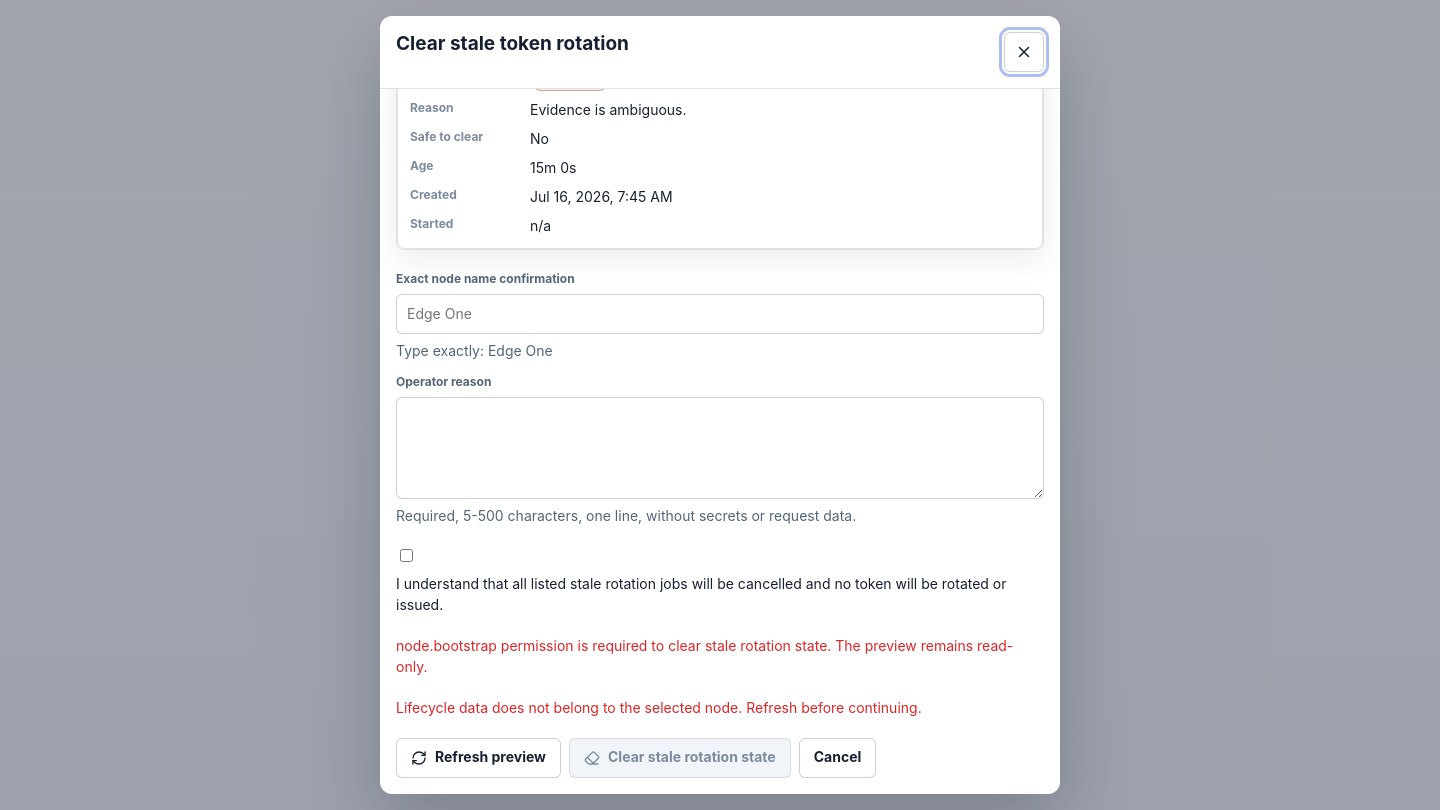
Scenario: NodeStaleRotationClearDialog › blocks mutation without permission/current ownership and refreshes only through the supplied action
(page scrolled)
Expected: the text "node.bootstrap permission is required" is shown, 396,636 -> 1013,674
Expected: the text "Lifecycle data does not belong to the selected node" is shown, 396,698 -> 922,716
What coordinates should you click on to do the following:
click the button "Refresh preview"
I would click on:
 (478, 758)
Its box is 396,738 -> 561,778.
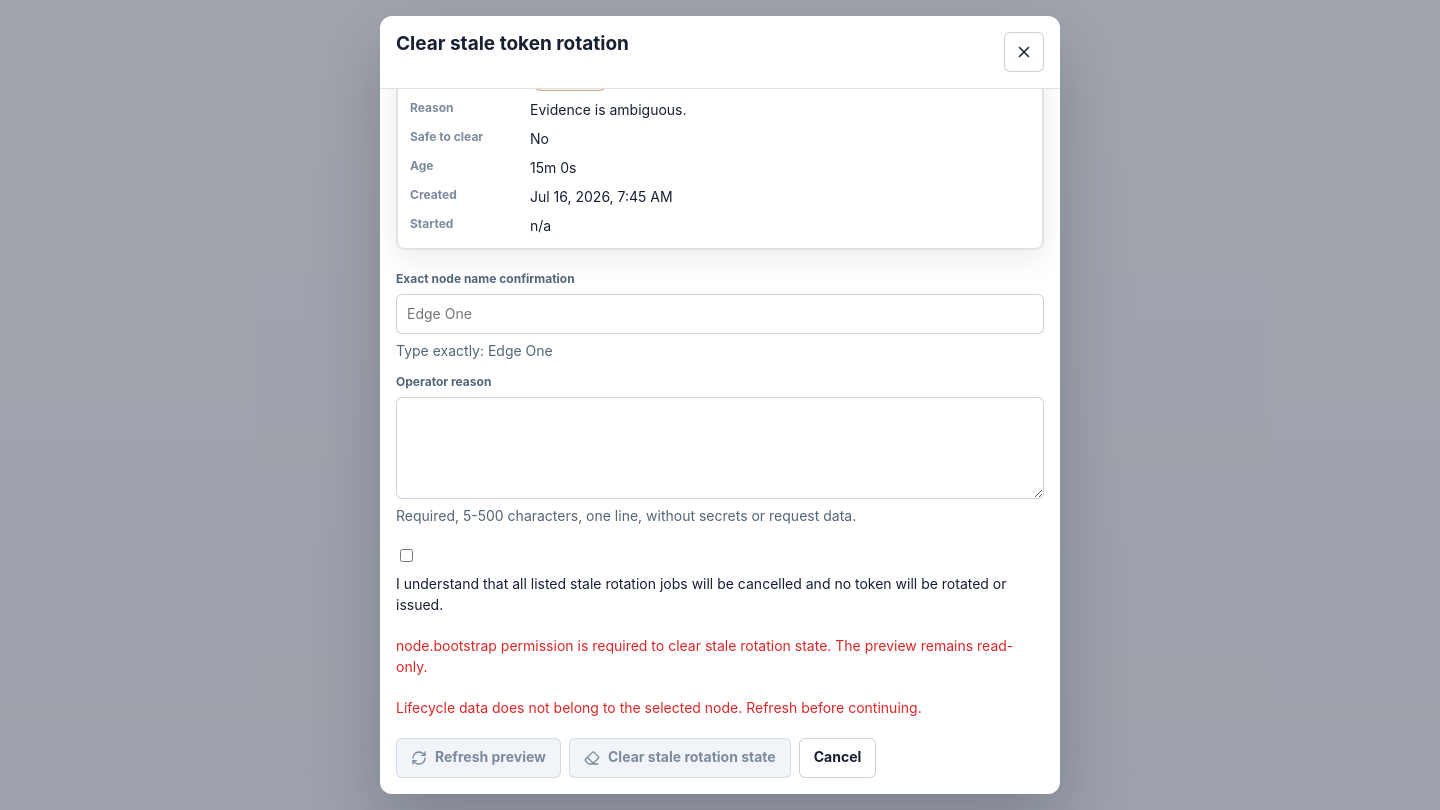
Now the button "Refresh preview" is disabled, box 396,738 -> 561,778
